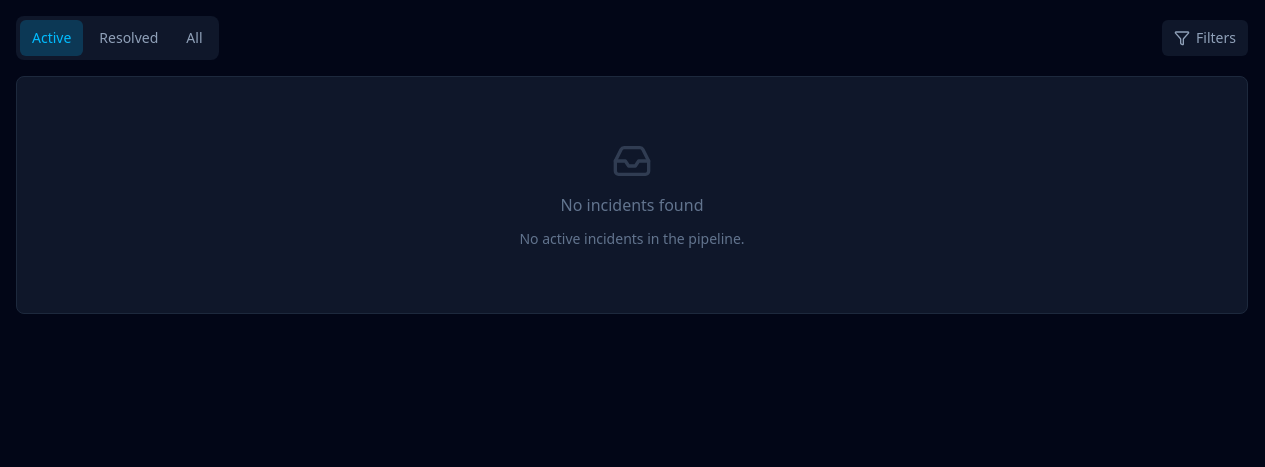
Test: IncidentQueue › toggles the filter panel open and closed
Expected: the text "Status" is not shown
Click the button with aria-label "toggle filters": (1205, 38) [1162, 20, 1248, 56]
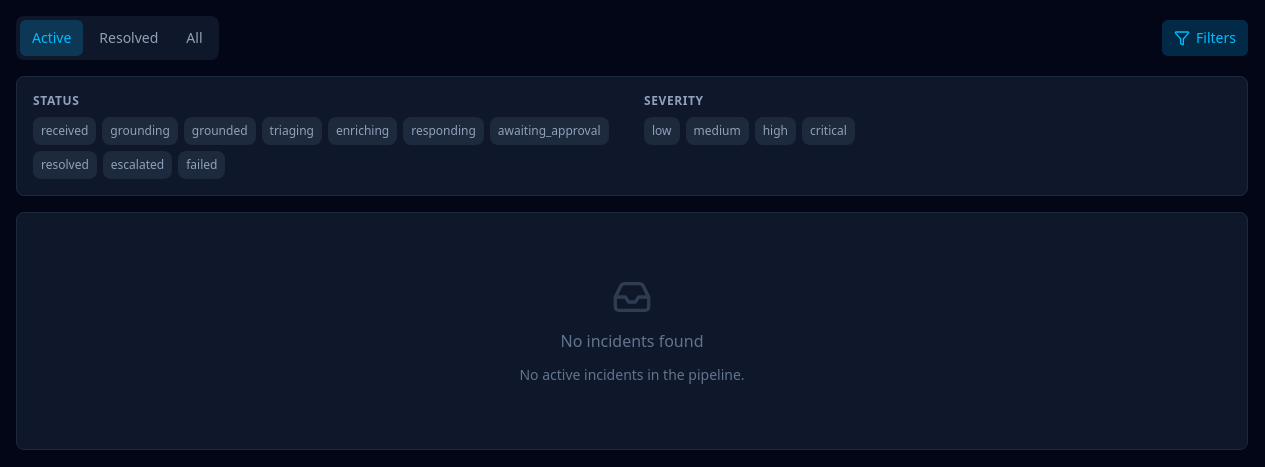
Expected: the text "Status" is shown, [33, 92, 79, 109]
Expected: the text "Severity" is shown, [644, 92, 704, 109]
